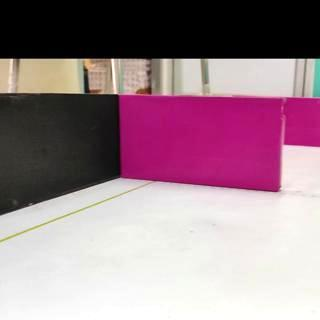xparking: (124, 96, 278, 190), (283, 100, 318, 146)
